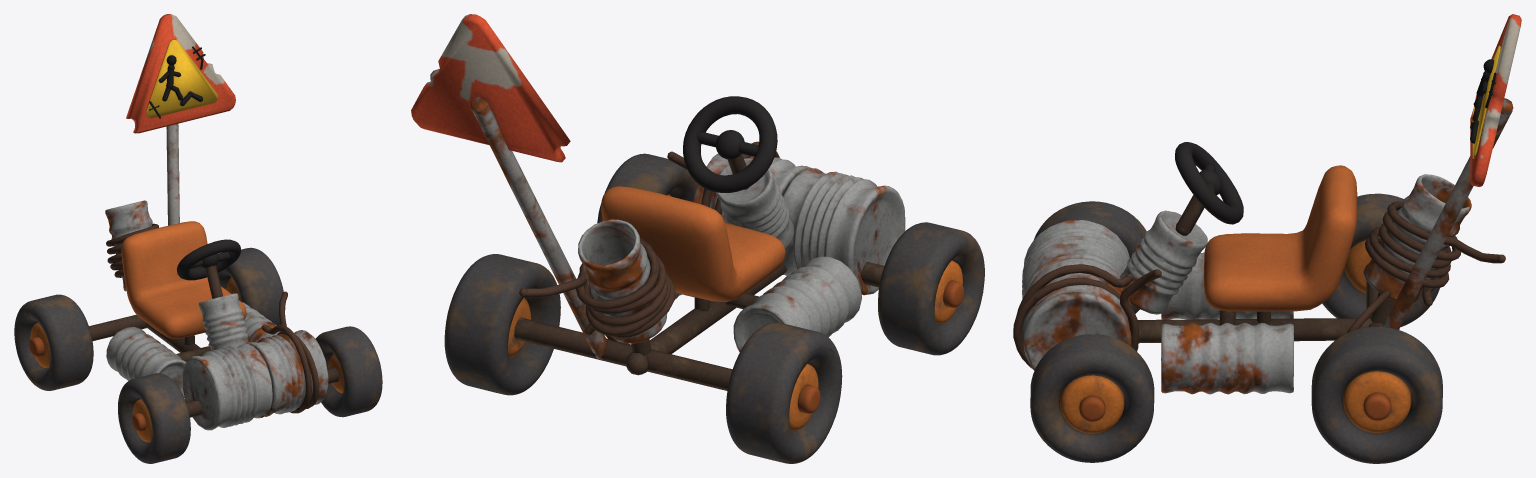
The model's file is kart.glb.
3 views of the same model, side by side, from view 1: azimuth 30°, elevation 25°; view 2: azimuth 150°, elevation 25°; view 3: azimuth 270°, elevation 25° (orthographic). The views are drawn at different scales.
Parts seen in each view (by area): view 1: body, wheel_RR, wheel_FR, wheel_FL, wheel_RL, steering_wheel; view 2: body, wheel_RR, wheel_RL, wheel_FR, steering_wheel, wheel_FL; view 3: body, wheel_RL, wheel_FL, wheel_RR, steering_wheel, wheel_FR.
Boxes of the visible parts, x1=… form: body: x1=89, y1=14, x2=339, y2=430; wheel_RR: x1=14, y1=294, x2=93, y2=390; wheel_FR: x1=118, y1=373, x2=190, y2=463; wheel_FL: x1=315, y1=326, x2=382, y2=417; wheel_RL: x1=217, y1=247, x2=285, y2=325; steering_wheel: x1=177, y1=239, x2=240, y2=280; body: x1=411, y1=14, x2=905, y2=390; wheel_RR: x1=726, y1=322, x2=842, y2=463; wheel_RL: x1=444, y1=254, x2=560, y2=395; wheel_FR: x1=878, y1=222, x2=984, y2=355; steering_wheel: x1=683, y1=96, x2=777, y2=192; wheel_FL: x1=597, y1=153, x2=697, y2=223; body: x1=1013, y1=14, x2=1521, y2=394; wheel_RL: x1=1311, y1=326, x2=1442, y2=463; wheel_FL: x1=1030, y1=334, x2=1154, y2=462; wheel_RR: x1=1322, y1=193, x2=1439, y2=327; steering_wheel: x1=1175, y1=142, x2=1243, y2=224; wheel_FR: x1=1034, y1=201, x2=1146, y2=313.
Size of the model in its own units: 1.07 by 1.27 by 1.39.
1 material, 1 textured.
